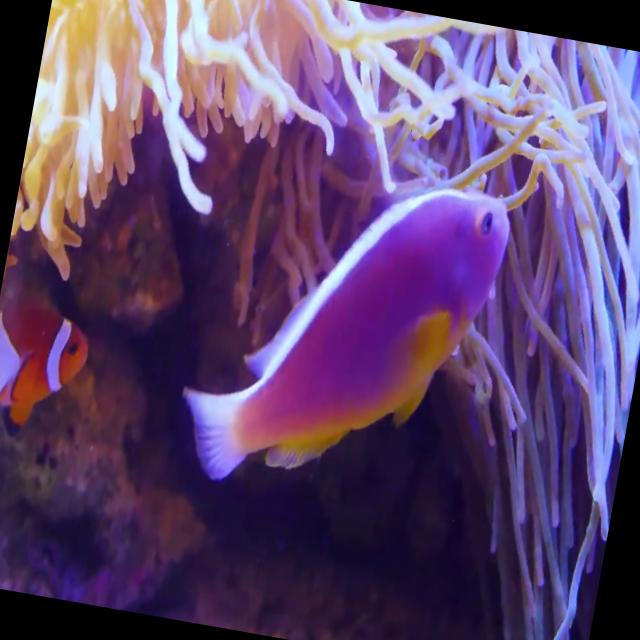fish: (192, 152, 511, 522)
